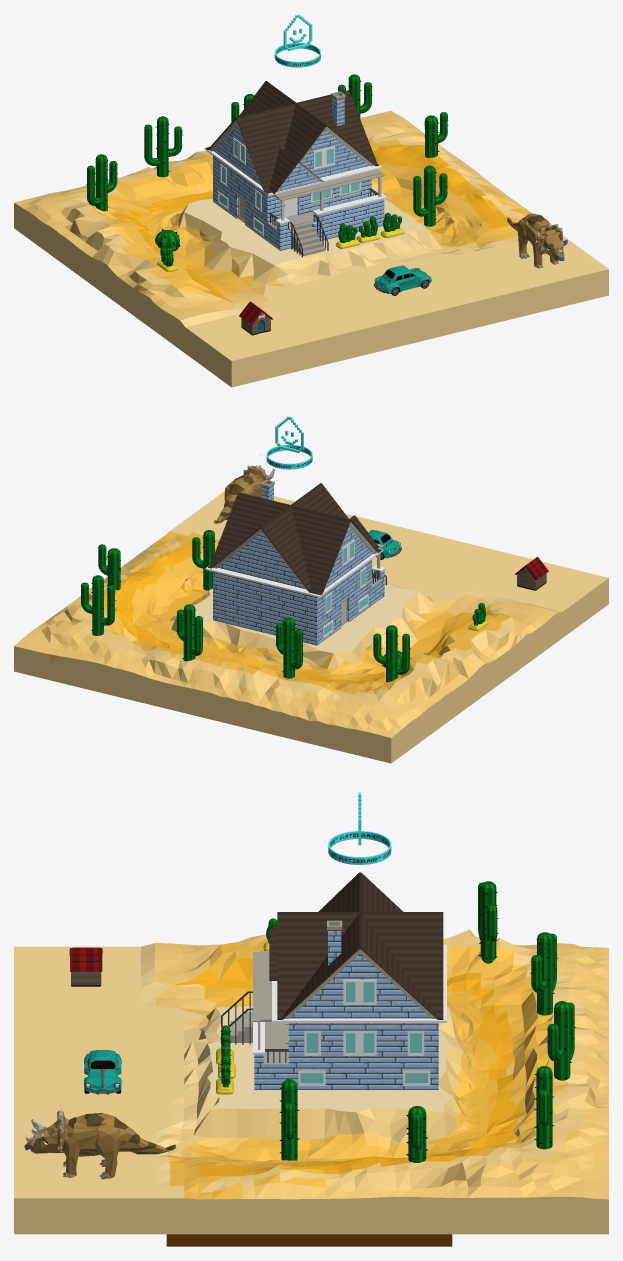
3 renders of one model, top to bottom at view 1: azimuth 30°, elevation 25°; view 2: azimuth 150°, elevation 25°; view 3: azimuth 270°, elevation 25°, orthographic. The views are drawn at different scales.
Parts seen in each view (by area): view 1: Cube.001, Cube.547, ANIMAL_Triceratops, Cylinder.044, Cylinder.037, Cylinder.045, VEHICLES_VOLKSWAGEN, TYPE_PREMIUM, Cylinder.038, OBJRANDOM_DOGHOUSE, Cylinder.042; view 2: Cube.001, Cube.547, Cylinder.042, Cylinder.045, Cylinder.044, ANIMAL_Triceratops, Cylinder.043, TYPE_PREMIUM, Cylinder.037, Cylinder.038, OBJRANDOM_DOGHOUSE, VEHICLES_VOLKSWAGEN; view 3: Cube.001, Cube.547, ANIMAL_Triceratops, UNDERGROUND_ART_PIECE_VAN_GOGH, Cylinder.043, Cylinder.044, VEHICLES_VOLKSWAGEN, Cylinder.045, Cylinder.042, Cylinder.037, OBJRANDOM_DOGHOUSE, TYPE_PREMIUM (+1 smaller).
Boxes of the visible parts, x1,y1,x2,y2 form: Cube.001: (14, 110, 608, 387); Cube.547: (204, 81, 386, 257); ANIMAL_Triceratops: (507, 213, 567, 268); Cylinder.044: (144, 116, 182, 177); Cylinder.037: (413, 165, 447, 226); Cylinder.045: (86, 154, 117, 211); VEHICLES_VOLKSWAGEN: (374, 265, 431, 295); TYPE_PREMIUM: (274, 14, 320, 67); Cylinder.038: (424, 112, 448, 157); OBJRANDOM_DOGHOUSE: (239, 301, 272, 335); Cylinder.042: (338, 74, 372, 118); Cube.001: (14, 491, 608, 763); Cube.547: (205, 479, 386, 645); Cylinder.042: (81, 575, 115, 635); Cylinder.045: (373, 625, 410, 682); Cylinder.044: (276, 617, 302, 678); ANIMAL_Triceratops: (214, 465, 274, 523); Cylinder.043: (176, 604, 203, 661); TYPE_PREMIUM: (266, 416, 312, 469); Cylinder.037: (192, 530, 219, 590); Cylinder.038: (98, 544, 120, 590); OBJRANDOM_DOGHOUSE: (515, 556, 548, 590); VEHICLES_VOLKSWAGEN: (368, 529, 401, 559); Cube.001: (14, 929, 608, 1234); Cube.547: (221, 872, 446, 1089); ANIMAL_Triceratops: (24, 1109, 175, 1179); UNDERGROUND_ART_PIECE_VAN_GOGH: (166, 1234, 452, 1246); Cylinder.043: (546, 1001, 575, 1080); Cylinder.044: (530, 932, 557, 1015); VEHICLES_VOLKSWAGEN: (84, 1050, 121, 1094); Cylinder.045: (478, 881, 498, 963); Cylinder.042: (534, 1066, 554, 1149); Cylinder.037: (279, 1079, 299, 1160); OBJRANDOM_DOGHOUSE: (69, 947, 102, 986); TYPE_PREMIUM: (328, 792, 391, 864).
Size of the model in its own units: 4002 by 2563 by 4001.
38 materials, 5 textured.
